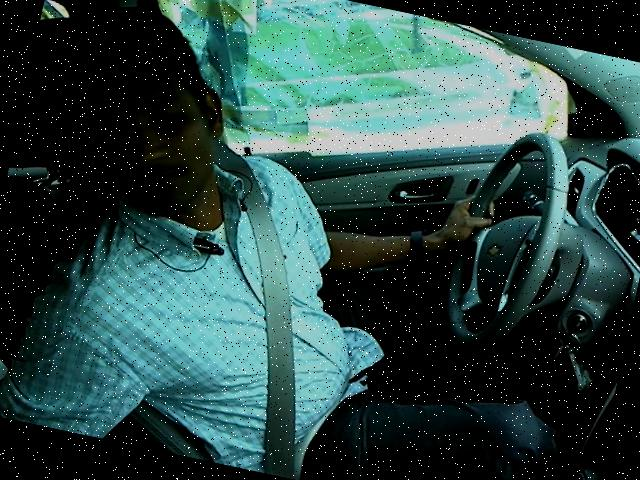c5 - Reaching Behind: (0, 0, 602, 479)
